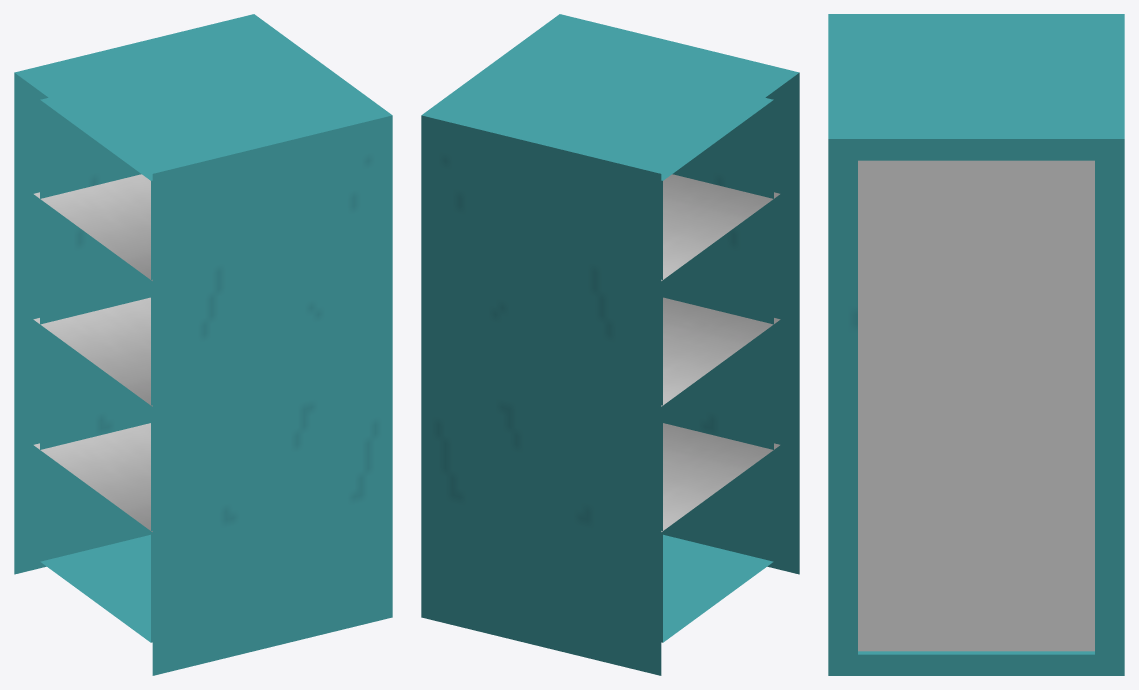
Rendered from YogurtShalf.fbx.
3 views of the same model, side by side, from view 1: azimuth 30°, elevation 25°; view 2: azimuth 150°, elevation 25°; view 3: azimuth 270°, elevation 25° (orthographic). The views are drawn at different scales.
Visible parts, largest first — view 1: Shalf; view 2: Shalf; view 3: Door, Shalf.
Boxes of the visible parts, bbox=[...] form: Shalf: bbox=[14, 14, 392, 675]; Shalf: bbox=[421, 14, 799, 675]; Door: bbox=[858, 160, 1094, 651]; Shalf: bbox=[828, 14, 1124, 675].
Bounding box in the file's own units: 200 × 400 × 200.
